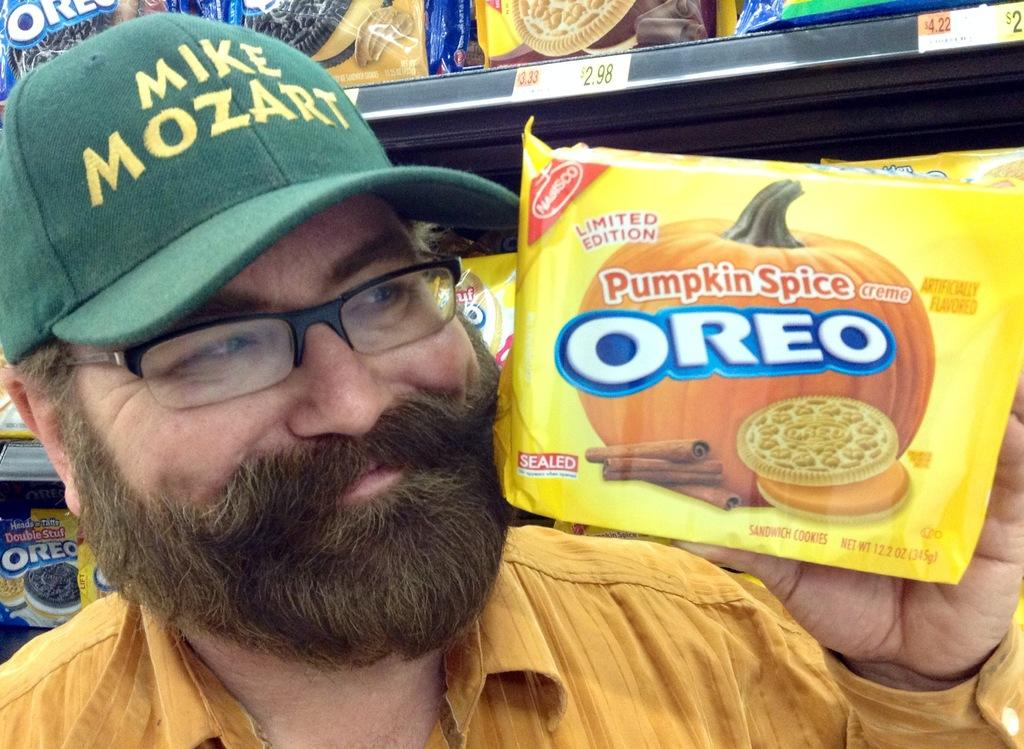Hat: (0, 10, 520, 364)
